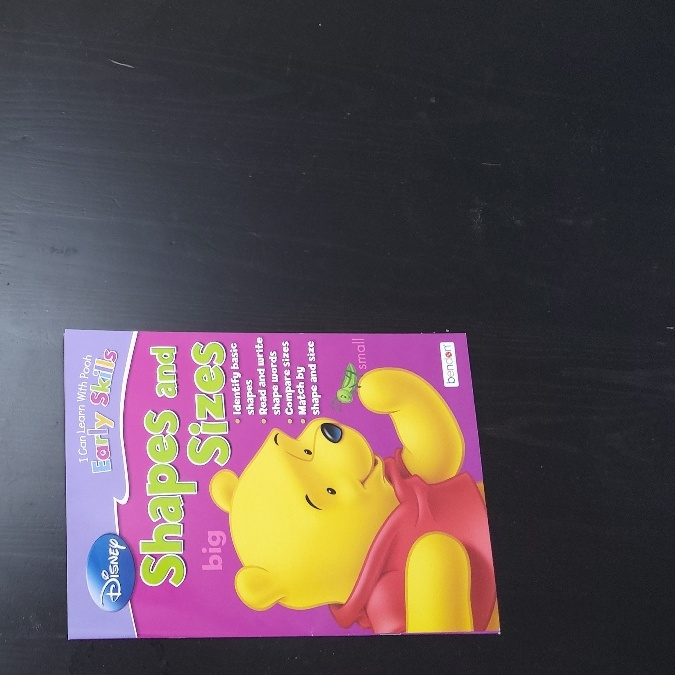book: (67, 328, 492, 635)
